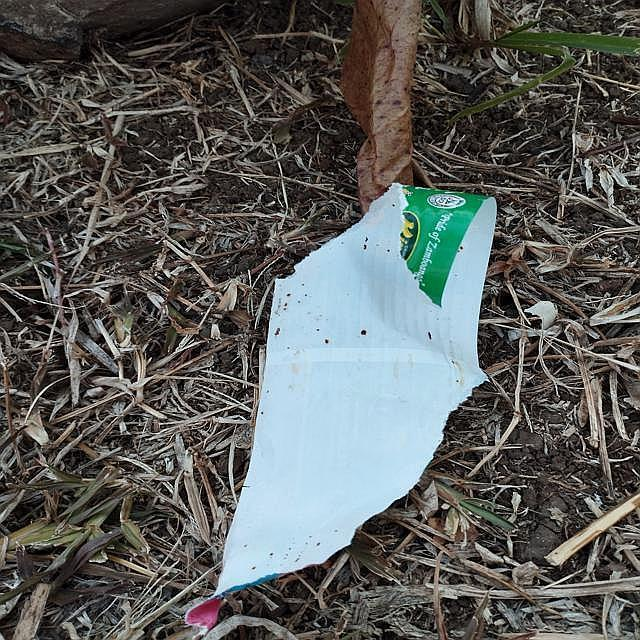Biodegradable: (214, 180, 506, 592)
